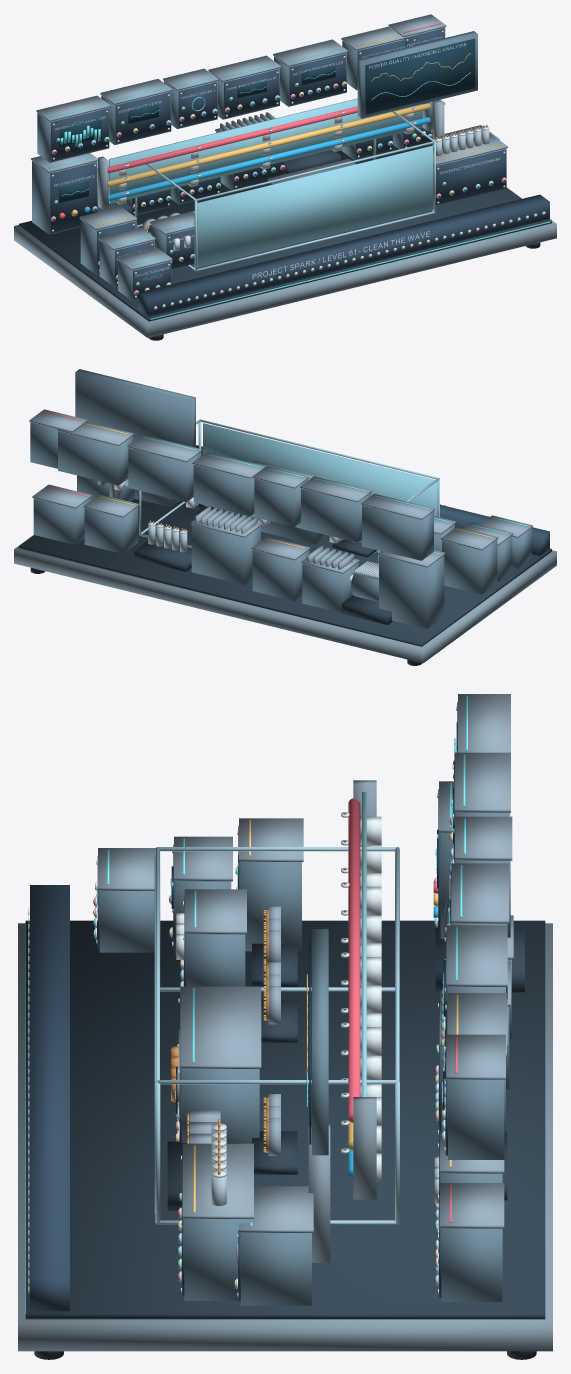
The model's file is Level61_Complete_ArtKit_Showcase.fbx.
The picture shows the model from 3 angles, top to bottom: view 1: azimuth 30°, elevation 25°; view 2: azimuth 150°, elevation 25°; view 3: azimuth 270°, elevation 25°; orthographic projection. The views are drawn at different scales.
Parts seen in each view (by area): view 1: Model::L61_TransparentSafetyEnclosure__TransparentSlidingDoo, Model::L61_IndustrialPowerQualityBase__FrontPatchRail, Model::L61_IndustrialPowerQualityBase__BrushedTitaniumBench, Model::L61_IndustrialPowerQualityBase__CarbonDeck, Model::L61_ThreePhaseDistributionBus__BusClearShield, Model::L61_HolographicWaveformMonitor__DisplayGlass, Model::L61_PowerFactorCapacitorBank__PowerFactorCapacitorBan (×2), Model::L61_HarmonicSpectrumAnalyzer__HarmonicSpectrumAnalyze (×3), Model::L61_HarmonicDetectionController__HarmonicDetectionCon (×3), Model::L61_ThreePhaseDistributionBus__PhaseCopperL3, Model::L61_ThreePhaseDistributionBus__PhaseCopperL2, Model::L61_ThreePhaseGridSource__ThreePhaseGridSource_FrontP (+41 smaller); view 2: Model::L61_IndustrialPowerQualityBase__CarbonDeck, Model::L61_IndustrialPowerQualityBase__BrushedTitaniumBench, Model::L61_TransparentSafetyEnclosure__TransparentSlidingDoo, Model::L61_HolographicWaveformMonitor__MonitorFrame, Model::L61_ThreePhaseGridSource__ThreePhaseGridSource_Housin, Model::L61_HarmonicSpectrumAnalyzer__HarmonicSpectrumAnalyze (×2), Model::L61_ReactivePowerController__ReactivePowerController_ (×2), Model::L61_HarmonicDetectionController__HarmonicDetectionCon (×2), Model::L61_FilterPowerConverter__FilterPowerConverter_Housin, Model::L61_CapacitorSwitchingContactor__CapacitorSwitchingCo (×2), Model::L61_CapacitorProtectionModule__CapacitorProtectionMod (×2), Model::L61_ActiveFilterController__ActiveFilterController_Ho (+26 smaller); view 3: Model::L61_IndustrialPowerQualityBase__CarbonDeck, Model::L61_IndustrialPowerQualityBase__BrushedTitaniumBench, Model::L61_IndustrialPowerQualityBase__FrontPatchRail, Model::L61_PowerFactorCapacitorBank__PowerFactorCapacitorBan (×2), Model::L61_CapacitorProtectionModule__CapacitorProtectionMod (×2), Model::L61_ActiveHarmonicFilter__ActiveHarmonicFilter_TopCap, Model::L61_ThermalCoolingAssembly__ThermalCoolingAssembly_Ho, Model::L61_ProtectionRelayModule__ProtectionRelayModule_Hous, Model::L61_ActiveHarmonicFilter__ActiveHarmonicFilter_Housin, Model::L61_NonlinearVFDLoad__NonlinearVFDLoad_Housing, Model::L61_ThreePhaseDistributionBus__PhaseCopperL1, Model::L61_HolographicWaveformMonitor__MonitorFrame (+29 smaller).
Boxes of the visible parts, box(x1,y1,x2,y2) form: Model::L61_TransparentSafetyEnclosure__TransparentSlidingDoo: box(197, 145, 432, 267); Model::L61_IndustrialPowerQualityBase__FrontPatchRail: box(138, 194, 549, 316); Model::L61_IndustrialPowerQualityBase__BrushedTitaniumBench: box(14, 187, 556, 337); Model::L61_IndustrialPowerQualityBase__CarbonDeck: box(19, 144, 551, 321); Model::L61_ThreePhaseDistributionBus__BusClearShield: box(109, 98, 422, 203); Model::L61_HolographicWaveformMonitor__DisplayGlass: box(365, 38, 475, 114); Model::L61_PowerFactorCapacitorBank__PowerFactorCapacitorBan (×2): box(433, 133, 507, 204); Model::L61_HarmonicSpectrumAnalyzer__HarmonicSpectrumAnalyze (×3): box(36, 95, 110, 162); Model::L61_HarmonicDetectionController__HarmonicDetectionCon (×3): box(208, 55, 280, 119); Model::L61_ThreePhaseDistributionBus__PhaseCopperL3: box(107, 117, 430, 201); Model::L61_ThreePhaseDistributionBus__PhaseCopperL2: box(107, 103, 430, 187); Model::L61_ThreePhaseGridSource__ThreePhaseGridSource_FrontP: box(50, 162, 96, 232); Model::L61_IndustrialPowerQualityBase__CarbonDeck: box(19, 498, 551, 646); Model::L61_IndustrialPowerQualityBase__BrushedTitaniumBench: box(14, 535, 556, 663); Model::L61_TransparentSafetyEnclosure__TransparentSlidingDoo: box(203, 423, 437, 516); Model::L61_HolographicWaveformMonitor__MonitorFrame: box(75, 369, 195, 447); Model::L61_ThreePhaseGridSource__ThreePhaseGridSource_Housin: box(379, 555, 444, 628); Model::L61_HarmonicSpectrumAnalyzer__HarmonicSpectrumAnalyze (×2): box(361, 493, 434, 560); Model::L61_ReactivePowerController__ReactivePowerController_ (×2): box(57, 422, 133, 485); Model::L61_HarmonicDetectionController__HarmonicDetectionCon (×2): box(192, 452, 265, 516); Model::L61_FilterPowerConverter__FilterPowerConverter_Housin: box(191, 525, 260, 584); Model::L61_CapacitorSwitchingContactor__CapacitorSwitchingCo (×2): box(83, 494, 139, 553); Model::L61_CapacitorProtectionModule__CapacitorProtectionMod (×2): box(32, 484, 91, 544); Model::L61_ActiveFilterController__ActiveFilterController_Ho: box(128, 448, 201, 502); Model::L61_IndustrialPowerQualityBase__CarbonDeck: box(25, 920, 545, 1319); Model::L61_IndustrialPowerQualityBase__BrushedTitaniumBench: box(18, 923, 552, 1351); Model::L61_IndustrialPowerQualityBase__FrontPatchRail: box(30, 885, 69, 1311); Model::L61_PowerFactorCapacitorBank__PowerFactorCapacitorBan (×2): box(182, 1143, 253, 1300); Model::L61_CapacitorProtectionModule__CapacitorProtectionMod (×2): box(439, 1183, 504, 1301); Model::L61_ActiveHarmonicFilter__ActiveHarmonicFilter_TopCap: box(180, 986, 261, 1068); Model::L61_ThermalCoolingAssembly__ThermalCoolingAssembly_Ho: box(240, 1233, 311, 1305); Model::L61_ProtectionRelayModule__ProtectionRelayModule_Hous: box(448, 1079, 504, 1159); Model::L61_ActiveHarmonicFilter__ActiveHarmonicFilter_Housin: box(182, 1069, 259, 1143); Model::L61_NonlinearVFDLoad__NonlinearVFDLoad_Housing: box(240, 862, 301, 951); Model::L61_ThreePhaseDistributionBus__PhaseCopperL1: box(348, 798, 360, 1122); Model::L61_HolographicWaveformMonitor__MonitorFrame: box(312, 929, 328, 1155).
Bounding box in the file's own units: 1140 × 428 × 645.
